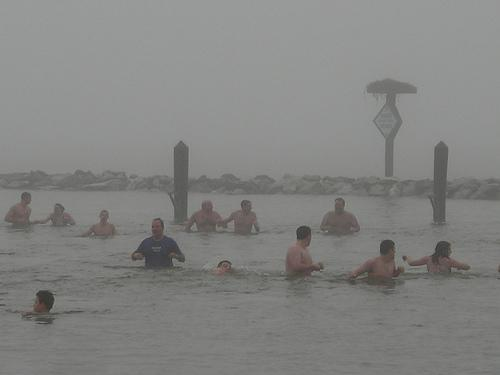human: (133, 212, 188, 272), (357, 233, 409, 286), (288, 225, 328, 280), (404, 240, 469, 272), (322, 197, 365, 236), (224, 199, 262, 236), (188, 200, 225, 234), (7, 192, 38, 229), (82, 208, 116, 239), (40, 201, 76, 227), (31, 288, 57, 314), (214, 257, 234, 275)
